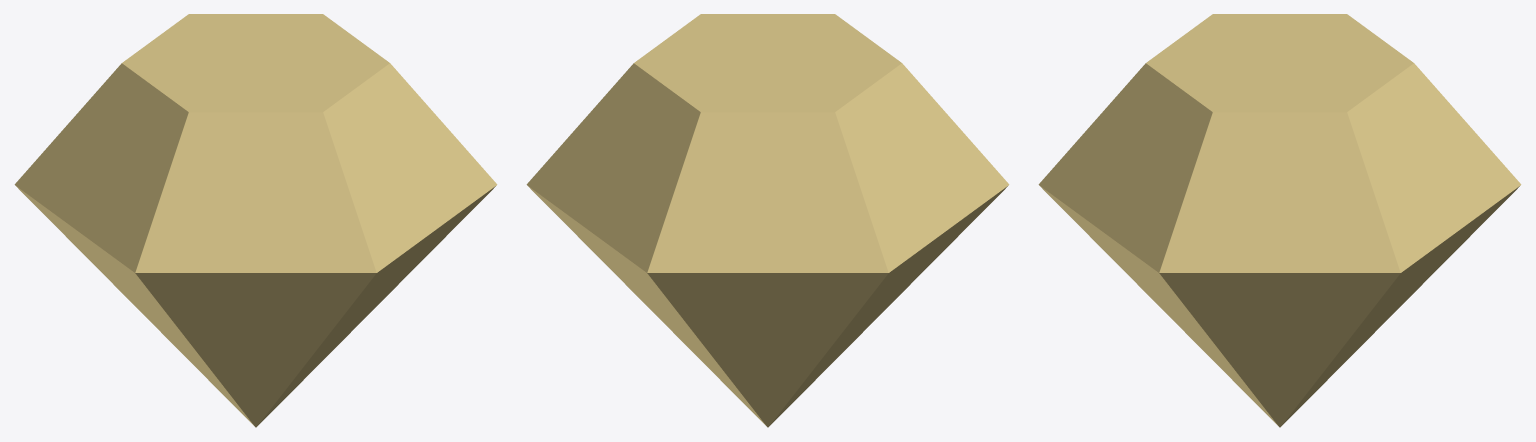
The model's file is shiny_stone.glb.
3 views of the same model, side by side, from view 1: azimuth 30°, elevation 25°; view 2: azimuth 150°, elevation 25°; view 3: azimuth 270°, elevation 25° (orthographic).
Visible parts, largest first — view 1: shiny_stone_v0; view 2: shiny_stone_v0; view 3: shiny_stone_v0.
Boxes of the visible parts, x1,y1,x2,y2 form: shiny_stone_v0: (14,14,497,427); shiny_stone_v0: (526,14,1009,427); shiny_stone_v0: (1038,14,1521,427).
Size of the model in its own units: 0.1559 by 0.15 by 0.18.
